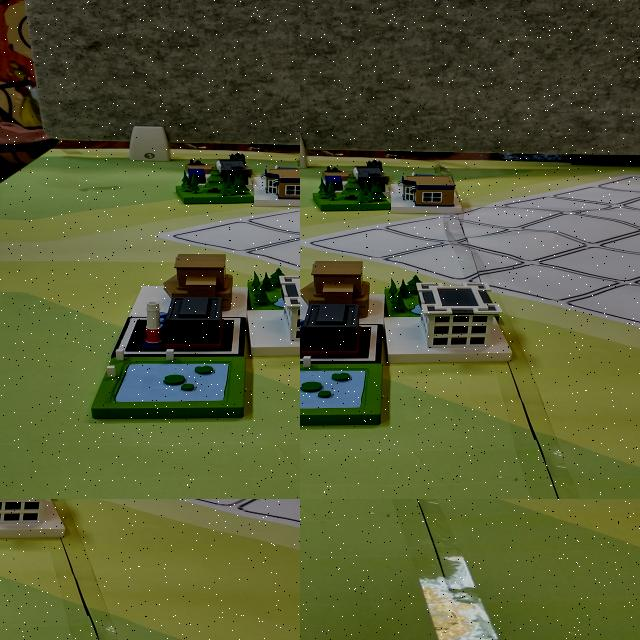bus_stop: (2, 499, 106, 529), (82, 146, 145, 172)
factory: (468, 144, 569, 196), (83, 355, 158, 391), (300, 499, 376, 531), (0, 499, 42, 517)
fish_pool: (0, 524, 98, 586), (554, 231, 640, 282), (88, 388, 174, 434), (300, 499, 385, 543)
forest: (0, 564, 53, 616), (72, 170, 146, 207), (300, 499, 352, 522)
gogo_shop: (0, 499, 52, 526), (135, 150, 192, 172)
research_build: (300, 499, 414, 545), (155, 338, 233, 384), (0, 499, 63, 532)
restaurant: (0, 530, 62, 596), (144, 169, 217, 207), (300, 499, 353, 523)
silicate_rock: (72, 119, 144, 152), (0, 499, 47, 522)
volunteer_center: (79, 313, 155, 355), (300, 499, 372, 534), (0, 533, 42, 588)
wet_land: (543, 172, 638, 230), (146, 309, 224, 346), (0, 499, 35, 519)
